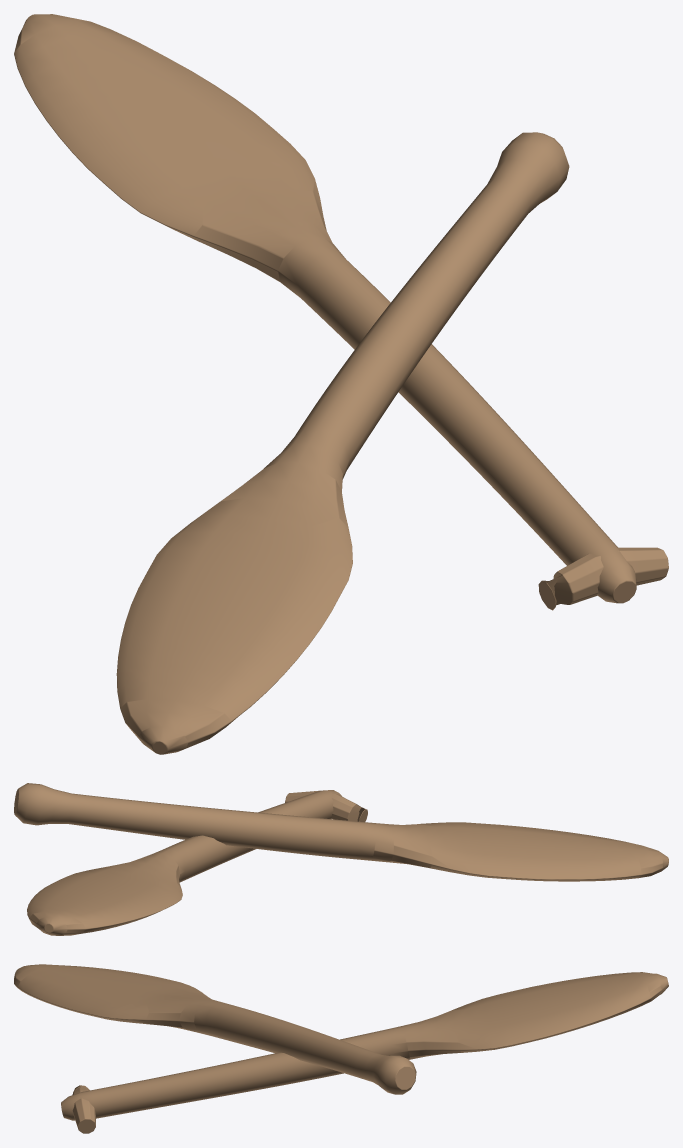
Rendered from prop_oar_pair_1.glb.
3 views of the same model, one above another, from view 1: azimuth 30°, elevation 25°; view 2: azimuth 150°, elevation 25°; view 3: azimuth 270°, elevation 25° (orthographic). The views are drawn at different scales.
Parts seen in each view (by area): view 1: oar_pair_1; view 2: oar_pair_1; view 3: oar_pair_1.
Part boxes in pixels (box(x1,y1,x2,y2)): oar_pair_1: box(14, 14, 668, 754); oar_pair_1: box(14, 783, 668, 935); oar_pair_1: box(14, 964, 668, 1133).
Bounding box in the file's own units: 1.14 × 0.328 × 1.53.
